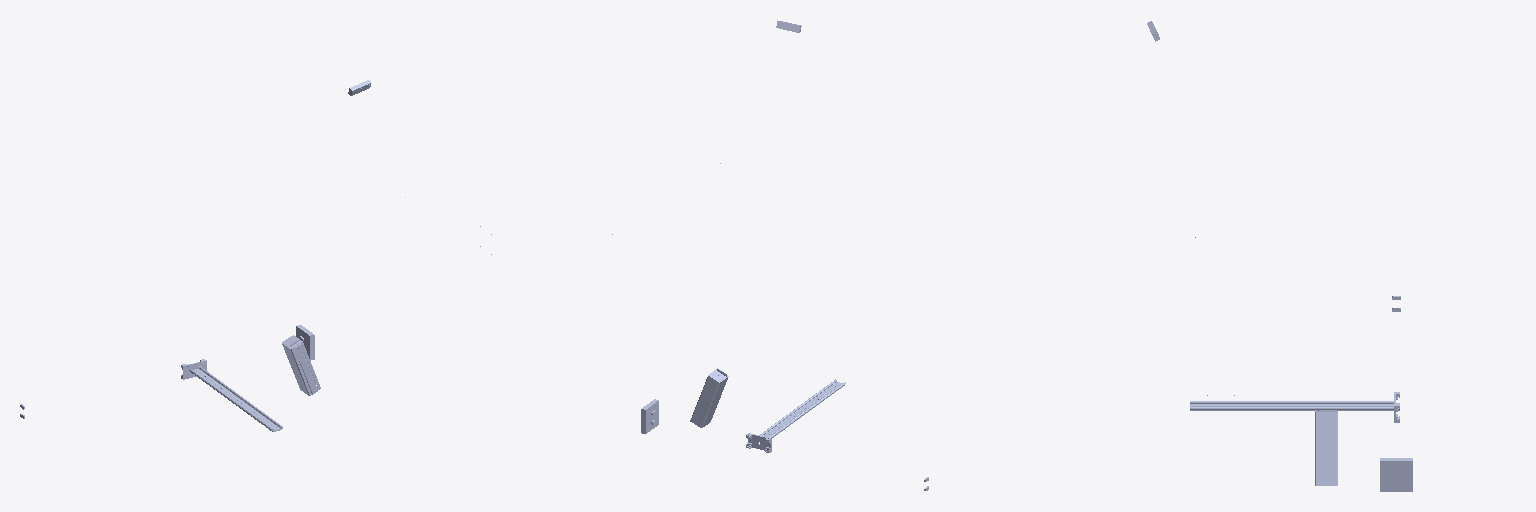
--- Facts derived from the render (not from the file) ---
The picture shows the robot from 3 angles, left to right: view 1: azimuth 30°, elevation 25°; view 2: azimuth 150°, elevation 25°; view 3: azimuth 270°, elevation 25°; orthographic projection.
Model robo_description with 21 links and 20 joints (2 revolute, 2 prismatic, 16 fixed), rooted at base_link, posed all joints at 0 but 1 set to mid-range because 0 is outside their limits (joint5 = 0.4665).
Visible links, largest first — view 1: link2, link5; view 2: link2, link5, base_link; view 3: link2, link5, base_link.
Boxes of the visible links, x1=… form: link2: x1=181, y1=359, x2=282, y2=431; link5: x1=282, y1=335, x2=320, y2=395; link2: x1=746, y1=379, x2=845, y2=452; link5: x1=690, y1=368, x2=728, y2=427; base_link: x1=641, y1=399, x2=928, y2=490; link2: x1=1190, y1=392, x2=1399, y2=422; link5: x1=1315, y1=410, x2=1337, y2=485; base_link: x1=1380, y1=296, x2=1412, y2=491.
Size in the robot's own frame: 1.65 by 0.7862 by 1.46 metres.
4 mesh visuals loaded from 6 distinct referenced files (4 binary STL); not drawn: 2 (reference not matched to a file when rendering).

URDF robot description (robo_description):
<?xml version="1.0" encoding="utf-8"?>
<!-- 25AUG2023 Changed the minimum limit of lJoint5 to 0.247 and max to 0.686 -->
<!-- This URDF was automatically created by SolidWorks to URDF Exporter! Originally created by Stephen Brawner ([email redacted]) 
     Commit Version: 1.6.0-4-g7f85cfe  Build Version: 1.6.7995.38578
     For more information, please see http://wiki.ros.org/sw_urdf_exporter -->
<robot
  name="robo_description">
  <link
    name="base_link">
    <inertial>
      <origin
        xyz="-5.13826234849775E-17 -1.63904738952765E-17 0.339473684210526"
        rpy="0 0 0" />
      <mass
        value="19" />
      <inertia
        ixx="2.34956140350877"
        ixy="1.11311423041845E-17"
        ixz="3.69215798456927E-16"
        iyy="2.34956140350877"
        iyz="-7.44985984223617E-17"
        izz="0.151666666666667" />
    </inertial>
    <visual>
      <origin
        xyz="0 0 0"
        rpy="0 0 0" />
      <geometry>
        <mesh
          filename="package://robo_description/meshes/base_link.STL" />
      </geometry>
      <material
        name="">
        <color
          rgba="0.792156862745098 0.819607843137255 0.933333333333333 1" />
      </material>
    </visual>
    <collision>
      <origin
        xyz="0 0 0"
        rpy="0 0 0" />
      <geometry>
        <mesh
          filename="package://robo_description/meshes/base_link.STL" />
      </geometry>
    </collision>
  </link>
  <link
    name="link2">
    <inertial>
      <origin
        xyz="-0.001261 -0.2858 0.14572"
        rpy="0 0 0" />
      <mass
        value="3.13280329013611" />
      <inertia
        ixx="0.0169430024052603"
        ixy="-0.00280446630124331"
        ixz="0.0223183329111622"
        iyy="0.162057682822749"
        iyz="0.000505061238040558"
        izz="0.161640952999751" />
    </inertial>
    <visual>
      <origin
        xyz="0 0 -1"
        rpy="0 0 0" />
      <geometry>
        <mesh
          filename="package://robo_description/meshes/link2.STL" />
      </geometry>
      <material
        name="">
        <color
          rgba="0.792156862745098 0.819607843137255 0.933333333333333 1" />
      </material>
    </visual>
    <collision>
      <origin
        xyz="0 0 0"
        rpy="0 0 0" />
      <geometry>
        <mesh
          filename="package://robo_description/meshes/link2.STL" />
      </geometry>
    </collision>
  </link>
  <joint
    name="joint2"
    type="prismatic">
    <origin
      xyz="0.0 0 1"
      rpy="0 0 0" />
    <parent
      link="base_link" />
    <child
      link="link2" />
    <axis
      xyz="0 0 1" />
    <limit
      lower="0"
      upper="1"
      effort="0"
      velocity="0" />
  </joint>
  <link
    name="link4">
    <inertial>
      <origin
        xyz="-0.000438554587764983 0.0620490502692163 -0.172885898172371"
        rpy="0 0 0" />
      <mass
        value="0.162146723185788" />
      <inertia
        ixx="0.00336616371871891"
        ixy="1.46811284877534E-06"
        ixz="-3.57096843523024E-06"
        iyy="0.00312866852492012"
        iyz="0.00048231220150353"
        izz="0.000338308018448651" />
    </inertial>
    <visual>
      <origin
        xyz="-0.4665 0 -0.790"
        rpy="0 0 0" />
      <geometry>
        <mesh
          filename="package://robo_description/meshes/link4.STL" />
      </geometry>
      <material
        name="">
        <color
          rgba="0.792156862745098 0.819607843137255 0.933333333333333 1" />
      </material>
    </visual>
    <collision>
      <origin
        xyz="0 0 0"
        rpy="0 0 0" />
      <geometry>
        <mesh
          filename="package://robo_description/meshes/link4.STL" />
      </geometry>
    </collision>
  </link>
  <joint
    name="joint4"
    type="revolute">
    <origin
      xyz="0.46904 0 -0.21"
      rpy="0 0 0" />
    <parent
      link="link2" />
    <child
      link="link4" />
    <axis
      xyz="0 0 1" />
    <limit
      lower="-2.9671"
      upper="2.9671"
      effort="0"
      velocity="0" />
  </joint>
  <link
    name="link3">
    <inertial>
      <origin
        xyz="-0.0832189655707039 -0.0894795892974461 -0.00179630042130147"
        rpy="0 0 0" />
      <mass
        value="1.71811977068641" />
      <inertia
        ixx="0.00948440583507882"
        ixy="-0.00159429497921182"
        ixz="0.00308193362516688"
        iyy="0.035537875179704"
        iyz="0.000648421421055908"
        izz="0.0305779645247813" />
    </inertial>
    <visual>
      <origin
        xyz="-0.468545 -0.078 -0.43528"
        rpy="0 0 0" />
      <geometry>
        <mesh
          filename="package://robo_description/meshes/link3.STL" />
      </geometry>
      <material
        name="">
        <color
          rgba="0.792156862745098 0.819607843137255 0.933333333333333 1" />
      </material>
    </visual>
    <collision>
      <origin
        xyz="0 0 0"
        rpy="0 0 0" />
      <geometry>
        <mesh
          filename="package://robo_description/meshes/link3.STL" />
      </geometry>
    </collision>
  </link>
  <joint
    name="joint3"
    type="revolute">
    <origin
      xyz="0.0 0.077824 -0.35472"
      rpy="0 0 0" />
    <parent
      link="link4" />
    <child
      link="link3" />
    <axis
      xyz="0 1 0" />
    <limit
      lower="-1.5708"
      upper="1.5708"
      effort="0"
      velocity="0" />
  </joint>
  <link
    name="yanthra_link">
    <inertial>
      <origin
        xyz="-0.0832189655707036 -0.0114795892974462 -0.00179630042130124"
        rpy="0 0 0" />
      <mass
        value="1.71811977068641" />
      <inertia
        ixx="0.00948440583507882"
        ixy="-0.00159429497921182"
        ixz="0.0030819336251669"
        iyy="0.035537875179704"
        iyz="0.000648421421055907"
        izz="0.0305779645247813" />
    </inertial>
    <visual>
      <origin
        xyz="0 0 0"
        rpy="0 0 0" />
      <geometry>
        <box size="0.001 0.001 0.001"/>
      </geometry>
      <material
        name="">
        <color
          rgba="0.792156862745098 0.819607843137255 0.933333333333333 1" />
      </material>
    </visual>
    <collision>
      <origin
        xyz="0 0 0"
        rpy="0 0 0" />
      <geometry>
        <box size="0.001 0.001 0.001"/>
      </geometry>
    </collision>
  </link>
  <joint
    name="yanthra_joint"
    type="fixed">
    <origin
      xyz="0 -0.078 0"
      rpy="0 0 0" />
    <parent
      link="link3" />
    <child
      link="yanthra_link" />
    <axis
      xyz="0 0 0" />
  </joint>
  <link
    name="link5_origin">
    <inertial>
      <origin
        xyz="-0.00874999999999998 0.0375 -0.00507843424240889"
        rpy="0 0 0" />
      <mass
        value="0.0438088883035136" />
      <inertia
        ixx="3.24913884800222E-05"
        ixy="1.33063310958086E-21"
        ixz="-8.470329472543E-22"
        iyy="3.99574478810853E-06"
        iyz="-3.38875204913906E-21"
        izz="3.07317223657389E-05" />
    </inertial>
    <visual>
      <origin
        xyz="0 0 0"
        rpy="0 0 0" />
      <geometry>
        <box size="0.001 0.001 0.001"/>
      </geometry>
      <material
        name="">
        <color
          rgba="0.792156862745098 0.819607843137255 0.933333333333333 1" />
      </material>
    </visual>
    <collision>
      <origin
        xyz="0 0 0"
        rpy="0 0 0" />
      <geometry>
        <box size="0.001 0.001 0.001"/>
      </geometry>
    </collision>
  </link>
  <joint
    name="link5_origin_joint"
    type="fixed">
    <origin
      xyz="0 0 0.0"
      rpy="0 0 0" />
    <parent	
      link="yanthra_link" />
    <child
      link="link5_origin" />
    <axis
      xyz="0 0 0" />
  </joint>
  <link
    name="link5">
    <inertial>
      <origin
        xyz="0.108132413871145 2.08242781028485E-06 0.00569147154470495"
        rpy="0 0 0" />
      <mass
        value="0.277404400359573" />
      <inertia
        ixx="0.00021628976171093"
        ixy="1.27900715148446E-06"
        ixz="-0.000135093187106687"
        iyy="0.00359200319167061"
        iyz="-8.36237914028336E-08"
        izz="0.00358633509004247" />
    </inertial>
    <visual>
      <origin
        xyz="-0.715545 0 -0.43528"
        rpy="0 0 0" />
      <geometry>
        <mesh
          filename="package://robo_description/meshes/link5.STL" />
      </geometry>
      <material
        name="">
        <color
          rgba="0.792156862745098 0.819607843137255 0.933333333333333 1" />
      </material>
    </visual>
    <collision>
      <origin
        xyz="0 0 0"
        rpy="0 0 0" />
      <geometry>
        <mesh
          filename="package://robo_description/meshes/link5.STL" />
      </geometry>
    </collision>
  </link>
  <joint
    name="joint5"
    type="prismatic">
    <origin
      xyz="0.0 0 0"
      rpy="0 0 0" />
    <parent
      link="link5_origin" />
    <child
      link="link5" />
    <axis
      xyz="1 0 0" />
    <limit
      lower="0.247"
      upper="0.686"
      effort="0"
      velocity="0" />
  </joint>
  <link
    name="ee_link">
    <inertial>
      <origin
        xyz="-0.00874999999999998 0.0375 -0.00507843424240889"
        rpy="0 0 0" />
      <mass
        value="0.0438088883035136" />
      <inertia
        ixx="3.24913884800222E-05"
        ixy="1.33063310958086E-21"
        ixz="-8.470329472543E-22"
        iyy="3.99574478810853E-06"
        iyz="-3.38875204913906E-21"
        izz="3.07317223657389E-05" />
    </inertial>
    <visual>
      <origin
        xyz="0 0 0"
        rpy="0 0 0" />
      <geometry>
        <box size="0.001 0.001 0.001"/>
      </geometry>
      <material
        name="">
        <color
          rgba="0.792156862745098 0.819607843137255 0.933333333333333 1" />
      </material>
    </visual>
    <collision>
      <origin
        xyz="0 0 0"
        rpy="0 0 0" />
      <geometry>
        <box size="0.001 0.001 0.001"/>
      </geometry>
    </collision>
  </link>
  <joint
    name="ee_joint"
    type="fixed">
    <origin
      xyz="-0.085 0 0"
      rpy="0 0 0" />
    <parent	
      link="link5" />
    <child
      link="ee_link" />
    <axis
      xyz="0 0 0" />
  </joint>
  <link
    name="aruco_marker_link">
    <inertial>
      <origin
        xyz="-0.00874999999999998 0.0375 -0.00507843424240889"
        rpy="0 0 0" />
      <mass
        value="0.0438088883035136" />
      <inertia
        ixx="3.24913884800222E-05"
        ixy="1.33063310958086E-21"
        ixz="-8.470329472543E-22"
        iyy="3.99574478810853E-06"
        iyz="-3.38875204913906E-21"
        izz="3.07317223657389E-05" />
    </inertial>
    <visual>
      <origin
        xyz="0 0 0"
        rpy="0 0 0" />
      <geometry>
        <box size="0.001 0.001 0.001"/>
      </geometry>
      <material
        name="">
        <color
          rgba="0.792156862745098 0.819607843137255 0.933333333333333 1" />
      </material>
    </visual>
    <collision>
      <origin
        xyz="0 0 0"
        rpy="0 0 0" />
      <geometry>
        <box size="0.001 0.001 0.001"/>
      </geometry>
    </collision>
  </link>
  <joint
    name="aruco_joint"
    type="fixed">
    <origin
      xyz="0.0 0 0.08"
      rpy="0 0 0" />
    <parent	
      link="ee_link" />
    <child
      link="aruco_marker_link" />
    <axis
      xyz="0 0 0" />
  </joint>
  <link
    name="aruco_link_1">
    <inertial>
      <origin
        xyz="-0.00874999999999998 0.0375 -0.00507843424240889"
        rpy="0 0 0" />
      <mass
        value="0.0438088883035136" />
      <inertia
        ixx="3.24913884800222E-05"
        ixy="1.33063310958086E-21"
        ixz="-8.470329472543E-22"
        iyy="3.99574478810853E-06"
        iyz="-3.38875204913906E-21"
        izz="3.07317223657389E-05" />
    </inertial>
    <visual>
      <origin
        xyz="0 0 0"
        rpy="0 0 0" />
      <geometry>
        <box size="0.001 0.001 0.001"/>
      </geometry>
      <material
        name="">
        <color
          rgba="0.792156862745098 0.819607843137255 0.933333333333333 1" />
      </material>
    </visual>
    <collision>
      <origin
        xyz="0 0 0"
        rpy="0 0 0" />
      <geometry>
        <box size="0.001 0.001 0.001"/>
      </geometry>
    </collision>
  </link>
  <joint
    name="aruco_joint_1"
    type="fixed">
    <origin
      xyz="0.0 0.04 0.04"
      rpy="0 0 0" />
    <parent	
      link="aruco_marker_link" />
    <child
      link="aruco_link_1" />
    <axis
      xyz="0 0 0" />
  </joint>
  <link
    name="aruco_link_2">
    <inertial>
      <origin
        xyz="-0.00874999999999998 0.0375 -0.00507843424240889"
        rpy="0 0 0" />
      <mass
        value="0.0438088883035136" />
      <inertia
        ixx="3.24913884800222E-05"
        ixy="1.33063310958086E-21"
        ixz="-8.470329472543E-22"
        iyy="3.99574478810853E-06"
        iyz="-3.38875204913906E-21"
        izz="3.07317223657389E-05" />
    </inertial>
    <visual>
      <origin
        xyz="0 0 0"
        rpy="0 0 0" />
      <geometry>
        <box size="0.001 0.001 0.001"/>
      </geometry>
      <material
        name="">
        <color
          rgba="0.792156862745098 0.819607843137255 0.933333333333333 1" />
      </material>
    </visual>
    <collision>
      <origin
        xyz="0 0 0"
        rpy="0 0 0" />
      <geometry>
        <box size="0.001 0.001 0.001"/>
      </geometry>
    </collision>
  </link>
  <joint
    name="aruco_joint_2"
    type="fixed">
    <origin
      xyz="0.0 -0.04 0.04"
      rpy="0 0 0" />
    <parent	
      link="aruco_marker_link" />
    <child
      link="aruco_link_2" />
    <axis
      xyz="0 0 0" />
  </joint>
  <link
    name="aruco_link_3">
    <inertial>
      <origin
        xyz="-0.00874999999999998 0.0375 -0.00507843424240889"
        rpy="0 0 0" />
      <mass
        value="0.0438088883035136" />
      <inertia
        ixx="3.24913884800222E-05"
        ixy="1.33063310958086E-21"
        ixz="-8.470329472543E-22"
        iyy="3.99574478810853E-06"
        iyz="-3.38875204913906E-21"
        izz="3.07317223657389E-05" />
    </inertial>
    <visual>
      <origin
        xyz="0 0 0"
        rpy="0 0 0" />
      <geometry>
        <box size="0.001 0.001 0.001"/>
      </geometry>
      <material
        name="">
        <color
          rgba="0.792156862745098 0.819607843137255 0.933333333333333 1" />
      </material>
    </visual>
    <collision>
      <origin
        xyz="0 0 0"
        rpy="0 0 0" />
      <geometry>
        <box size="0.001 0.001 0.001"/>
      </geometry>
    </collision>
  </link>
  <joint
    name="aruco_joint_3"
    type="fixed">
    <origin
      xyz="0.0 0.04 -0.04"
      rpy="0 0 0" />
    <parent	
      link="aruco_marker_link" />
    <child
      link="aruco_link_3" />
    <axis
      xyz="0 0 0" />
  </joint>
  <link
    name="aruco_link_4">
    <inertial>
      <origin
        xyz="-0.00874999999999998 0.0375 -0.00507843424240889"
        rpy="0 0 0" />
      <mass
        value="0.0438088883035136" />
      <inertia
        ixx="3.24913884800222E-05"
        ixy="1.33063310958086E-21"
        ixz="-8.470329472543E-22"
        iyy="3.99574478810853E-06"
        iyz="-3.38875204913906E-21"
        izz="3.07317223657389E-05" />
    </inertial>
    <visual>
      <origin
        xyz="0 0 0"
        rpy="0 0 0" />
      <geometry>
        <box size="0.001 0.001 0.001"/>
      </geometry>
      <material
        name="">
        <color
          rgba="0.792156862745098 0.819607843137255 0.933333333333333 1" />
      </material>
    </visual>
    <collision>
      <origin
        xyz="0 0 0"
        rpy="0 0 0" />
      <geometry>
        <box size="0.001 0.001 0.001"/>
      </geometry>
    </collision>
  </link>
  <joint
    name="aruco_joint_4"
    type="fixed">
    <origin
      xyz="0.0 -0.04 -0.04"
      rpy="0 0 0" />
    <parent	
      link="aruco_marker_link" />
    <child
      link="aruco_link_4" />
    <axis
      xyz="0 0 0" />
  </joint>
  <link
    name="link7">
    <inertial>
      <origin
        xyz="-0.00129487747822488 -0.0114795892973884 0.11996423535158"
        rpy="0 0 0" />
      <mass
        value="1.71811977068641" />
      <inertia
        ixx="0.0113386071435481"
        ixy="-0.00171490439294498"
        ixz="-0.00672100859249017"
        iyy="0.0355378751797041"
        iyz="-0.0001460470577602"
        izz="0.0287237632163119" />
    </inertial>
    <visual>
      <origin
        xyz="0 0 0"
        rpy="0 0 0" />
      <geometry>
        <box size="0.001 0.001 0.001"/>
      </geometry>
      <material
        name="">
        <color
          rgba="0.792156862745098 0.819607843137255 0.933333333333333 1" />
      </material>
    </visual>
    <collision>
      <origin
        xyz="0 0 0"
        rpy="0 0 0" />
      <geometry>
        <box size="0.001 0.001 0.001"/>
      </geometry>
    </collision>
  </link>
  <joint
    name="joint7"
    type="fixed">
    <origin
      xyz="0.47229 -0.069971 0.80411"
      rpy="0 0.785398 -1.5708" />
    <parent
      link="base_link"/>
    <child
      link="link7"/>
    <axis
      xyz="0 0 0" />
  </joint>
  <link
    name="camera_mount_link">
    <inertial>
      <origin
        xyz="-0.00129487747822488 -0.0114795892973883 0.11996423535158"
        rpy="0 0 0" />
      <mass
        value="1.71811977068641" />
      <inertia
        ixx="0.0113386071435481"
        ixy="-0.00171490439294498"
        ixz="-0.00672100859249018"
        iyy="0.0355378751797041"
        iyz="-0.000146047057760202"
        izz="0.0287237632163119" />
    </inertial>
    <visual>
      <origin
        xyz="0 0 0"
        rpy="0 0 0" />
      <geometry>
        <box size="0.001 0.001 0.001"/>
      </geometry>
      <material
        name="">
        <color
          rgba="0.792156862745098 0.819607843137255 0.933333333333333 1" />
      </material>
    </visual>
    <collision>
      <origin
        xyz="0 0 0"
        rpy="0 0 0" />
      <geometry>
        <box size="0.001 0.001 0.001"/>
      </geometry>
    </collision>
  </link>
     <!--Realsense Camera depth is 20 mm from back to glass, But the depth start point(GROUND ZERO REFERENCE i.e depth is Zero) is 1.1 mm behind glass-->
     <!--Camera thickness-Zero Ref +Plate thick=20-1.1+2 = 20.09 mm -->
     <!-- xyz="0.0209 -0.0375 0"-->
  <joint
    name="camera_mount_joint"
    type="fixed">
    <origin
      xyz="0.02090 -0.0375 0"
      rpy="-1.5708 0 -1.5708" />
    <parent
      link="link7" />
    <child
      link="camera_mount_link" />
    <axis
      xyz="0 0 0" />
  </joint>
  <link
    name="virtual_cam_link">
    <inertial>
      <origin
        xyz="-0.00874999999999998 0.0375 -0.00507843424240889"
        rpy="0 0 0" />
      <mass
        value="0.0438088883035136" />
      <inertia
        ixx="3.24913884800222E-05"
        ixy="1.33063310958086E-21"
        ixz="-8.470329472543E-22"
        iyy="3.99574478810853E-06"
        iyz="-3.38875204913906E-21"
        izz="3.07317223657389E-05" />
    </inertial>
    <visual>
      <origin
        xyz="0 0 0"
        rpy="0 0 0" />
      <geometry>
        <box size="0.001 0.001 0.001"/>
      </geometry>
      <material
        name="">
        <color
          rgba="0.792156862745098 0.819607843137255 0.933333333333333 1" />
      </material>
    </visual>
    <collision>
      <origin
        xyz="0 0 0"
        rpy="0 0 0" />
      <geometry>
        <box size="0.001 0.001 0.001"/>
      </geometry>
    </collision>
  </link>
  <joint
    name="virtual_cam_link_joint"
    type="fixed">
    <origin
      xyz="0 0 0"
      rpy="0 0 0" />
    <parent	
      link="camera_mount_link" />
    <child
      link="virtual_cam_link" />
    <axis
      xyz="0 0 0" />
  </joint>

  <link
    name="camera_link">
    <inertial>
      <origin
        xyz="-0.00874999999999998 0.0375 -0.00507843424240889"
        rpy="0 0 0" />
      <mass
        value="0.0438088883035136" />
      <inertia
        ixx="3.24913884800222E-05"
        ixy="1.33063310958086E-21"
        ixz="-8.470329472543E-22"
        iyy="3.99574478810853E-06"
        iyz="-3.38875204913906E-21"
        izz="3.07317223657389E-05" />
    </inertial>
    <visual>
      <origin
        xyz="-0.03768 -0.425 -0.175"
        rpy="0 -2.04 -1.5708" />
      <geometry>
        <mesh
          filename="package://robo_description/meshes/camera_link.STL" />
      </geometry>
      <material
        name="">
        <color
          rgba="0.792156862745098 0.819607843137255 0.933333333333333 1" />
      </material>
    </visual>
    <collision>
      <origin
        xyz="0 0 0"
        rpy="0 0 0" />
      <geometry>
        <mesh
          filename="package://robo_description/meshes/camera_link.STL" />
      </geometry>
    </collision>
  </link>
  <joint
    name="camera_link_joint"
    type="fixed">
    <origin
      xyz="0.00612383 0.00530058 -0.00850634"
      rpy="0.078463 -0.1705 -0.0697286" />
    <parent
      link="virtual_cam_link" />
    <child
      link="camera_link" />
    <axis
      xyz="0 0 0" />
  </joint>

  <link name="camera_depth_frame">

    <visual>

    <origin xyz="0 0 0" rpy="0 0 0" />

      <geometry>

        <box size="0.001 0.001 0.001"/>

      </geometry>

    </visual>

  </link>

  <joint name="camera_depth_frame_joint" type="fixed">

    <origin rpy="0 0 0" xyz="0 0 0"/>

    <parent link="camera_link"/>

    <child link="camera_depth_frame"/>

  </joint>

  <link name="camera_depth_optical_frame">

    <visual>

    <origin xyz="0 0 0" rpy="0 0 0" />

      <geometry>

        <box size="0.001 0.001 0.001"/>

      </geometry>

    </visual>

  </link>

  <joint name="camera_depth_optical_frame_joint" type="fixed">

   <origin rpy="0 0 0" xyz="0 0 0"/>

   <parent link="camera_depth_frame"/>

   <child link="camera_depth_optical_frame"/>

  </joint>

  <link name="camera_color_frame">

    <visual>

    <origin xyz="0 0 0" rpy="0 0 0" />

      <geometry>

        <box size="0.001 0.001 0.001"/>

      </geometry>

    </visual>

  </link>

  <joint name="camera_color_frame_joint" type="fixed">

    <origin rpy="0 0 0" xyz="0 0 0"/>

    <parent link="camera_link"/>

    <child link="camera_color_frame"/>

  </joint>

  <link name="camera_color_optical_frame">

    <visual>

    <origin xyz="0 0 0" rpy="0 0 0" />

      <geometry>

        <box size="0.001 0.001 0.001"/>

      </geometry>

    </visual>

  </link>

  <joint name="camera_color_optical_frame_joint" type="fixed">

   <origin rpy="0 0 0" xyz="0 0 0"/>

   <parent link="camera_color_frame"/>

   <child link="camera_color_optical_frame"/>

  </joint>
  <gazebo reference="stand">

    <material>Gazebo/Grey</material>

  </gazebo>

  <gazebo reference="link3">

    <material>Gazebo/Green</material>

  </gazebo>

  <gazebo reference="link4">

    <material>Gazebo/Red</material>

  </gazebo>

  <gazebo reference="link5">

    <material>Gazebo/Green</material>

  </gazebo>

  <gazebo reference="link9">

    <material>Gazebo/Red</material>

  </gazebo>

  <gazebo reference="link6">

    <material>Gazebo/White</material>

  </gazebo>

  <transmission name="tran1">

    <type>transmission_interface/SimpleTransmission</type>

    <joint name="joint3">

      <hardwareInterface>hardware_interface/PositionJointInterface</hardwareInterface>

    </joint>

    <actuator name="motor1">

      <hardwareInterface>hardware_interface/PositionJointInterface</hardwareInterface>

      <mechanicalReduction>1</mechanicalReduction>

    </actuator>

  </transmission>

  <transmission name="tran1">

    <type>transmission_interface/SimpleTransmission</type>

    <joint name="joint4">

      <hardwareInterface>hardware_interface/PositionJointInterface</hardwareInterface>

    </joint>

    <actuator name="motor1">

      <hardwareInterface>hardware_interface/PositionJointInterface</hardwareInterface>

      <mechanicalReduction>1</mechanicalReduction>

    </actuator>

  </transmission>

  <transmission name="tran1">

    <type>transmission_interface/SimpleTransmission</type>

    <joint name="joint5">

      <hardwareInterface>hardware_interface/PositionJointInterface</hardwareInterface>

    </joint>

    <actuator name="motor1">

      <hardwareInterface>hardware_interface/PositionJointInterface</hardwareInterface>

      <mechanicalReduction>1</mechanicalReduction>

    </actuator>

  </transmission>

  <gazebo>

    <plugin filename="libgazebo_ros_control.so" name="gazebo_ros_control">

      <robotNameSpace>/arm_controller</robotNameSpace>

    </plugin>

  </gazebo>

</robot>
